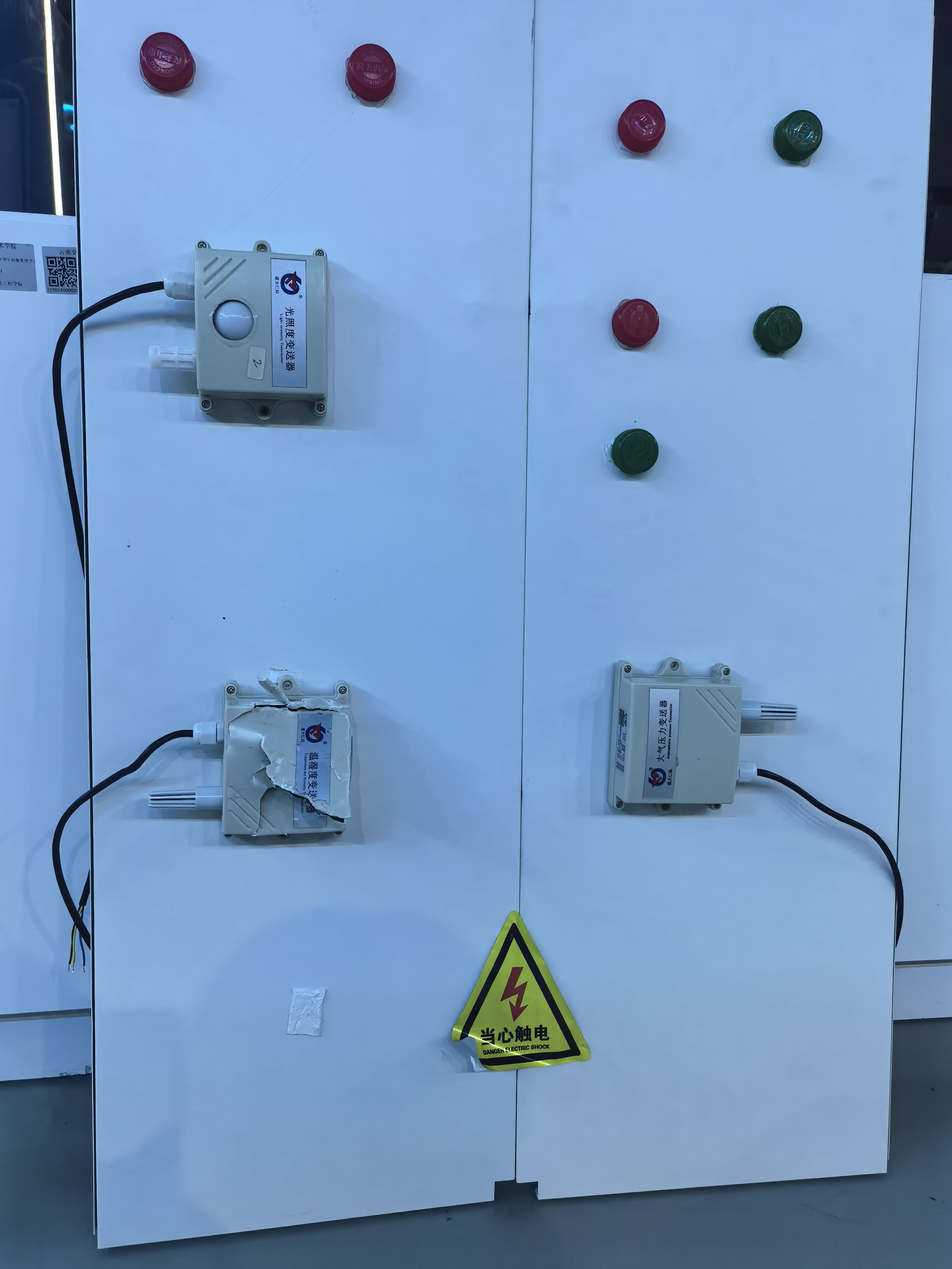red_warning: (118, 11, 216, 106), (574, 77, 682, 156), (586, 271, 676, 364), (331, 29, 419, 116)
sensor_damage: (128, 639, 400, 896)
